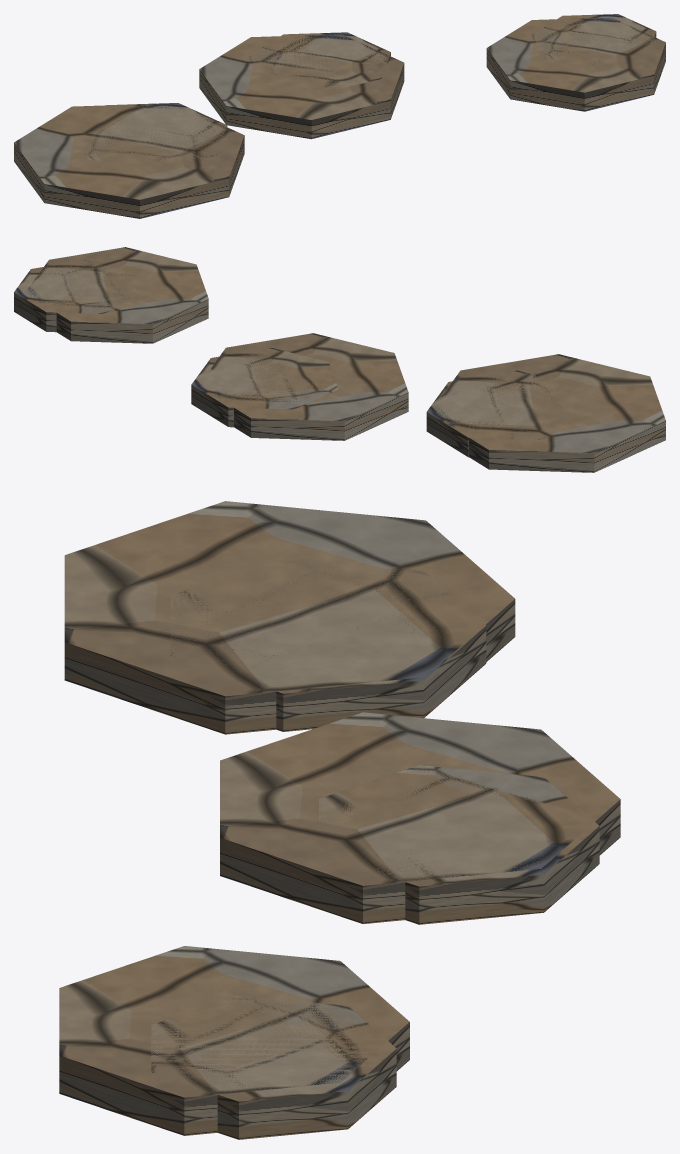
The model's file is path_stones.glb.
3 views of the same model, one above another, from view 1: azimuth 30°, elevation 25°; view 2: azimuth 150°, elevation 25°; view 3: azimuth 270°, elevation 25° (orthographic). The views are drawn at different scales.
Parts seen in each view (by area): view 1: Stone_0_A, Stone_1_A, Stone_2_A, Stone_1_B, Stone_0_B, Stone_2_B; view 2: Stone_0_A, Stone_1_A, Stone_2_A, Stone_1_B, Stone_2_B, Stone_0_B; view 3: Stone_0_A, Stone_1_A, Stone_2_A, Stone_2_B, Stone_1_B, Stone_0_B.
Part boxes in pixels (<box>): Stone_0_A: <box>14,104,244,218</box>; Stone_1_A: <box>199,34,404,139</box>; Stone_2_A: <box>486,17,665,111</box>; Stone_1_B: <box>248,32,390,90</box>; Stone_0_B: <box>80,103,227,164</box>; Stone_2_B: <box>531,14,656,65</box>; Stone_0_A: <box>435,354,665,472</box>; Stone_1_A: <box>209,333,408,440</box>; Stone_2_A: <box>25,247,208,343</box>; Stone_1_B: <box>191,348,338,427</box>; Stone_2_B: <box>14,260,137,332</box>; Stone_0_B: <box>426,370,562,457</box>; Stone_0_A: <box>64,501,515,734</box>; Stone_1_A: <box>220,712,620,923</box>; Stone_2_A: <box>59,946,409,1135</box>; Stone_2_B: <box>151,996,396,1139</box>; Stone_1_B: <box>319,765,599,924</box>; Stone_0_B: <box>170,559,486,731</box>.
Bounding box in the file's own units: 2.7 × 0.08 × 1.07.
Materials: 1 (1 with a texture image).
